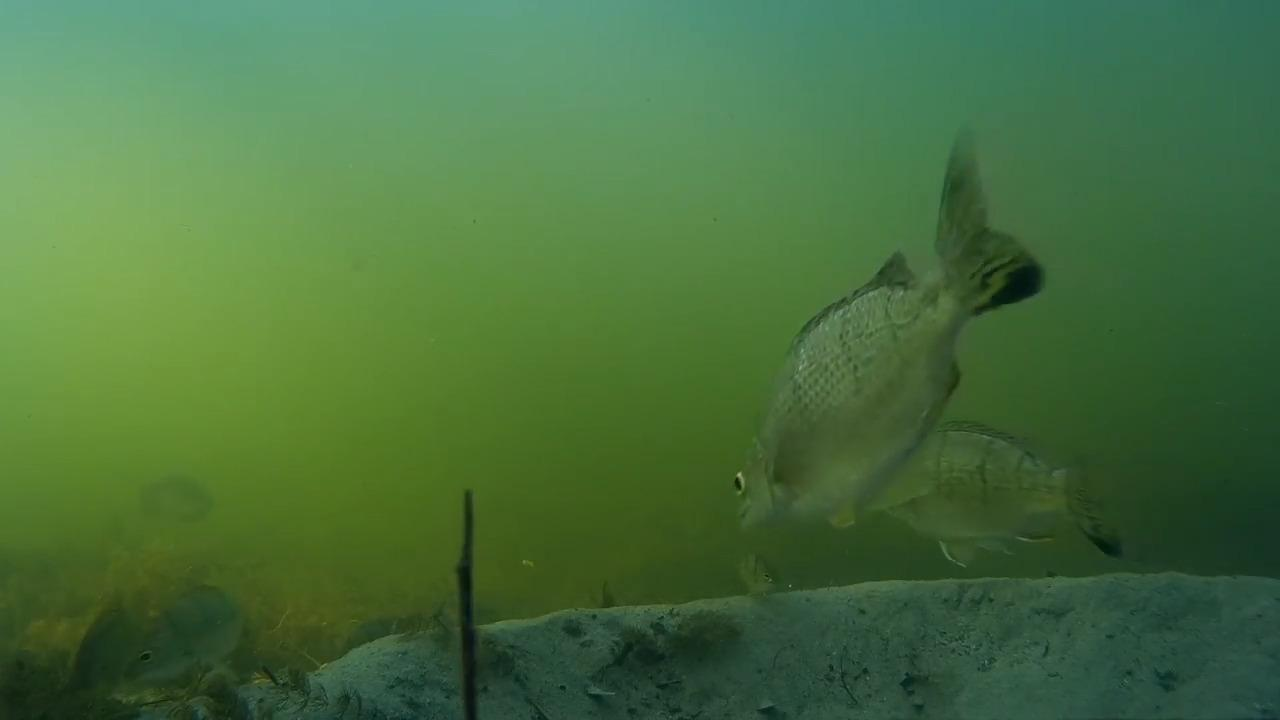Tilapia: (726, 213, 1052, 518), (836, 419, 1126, 556), (109, 584, 265, 680), (117, 456, 234, 536)
